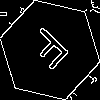F: (25, 25, 78, 78)
